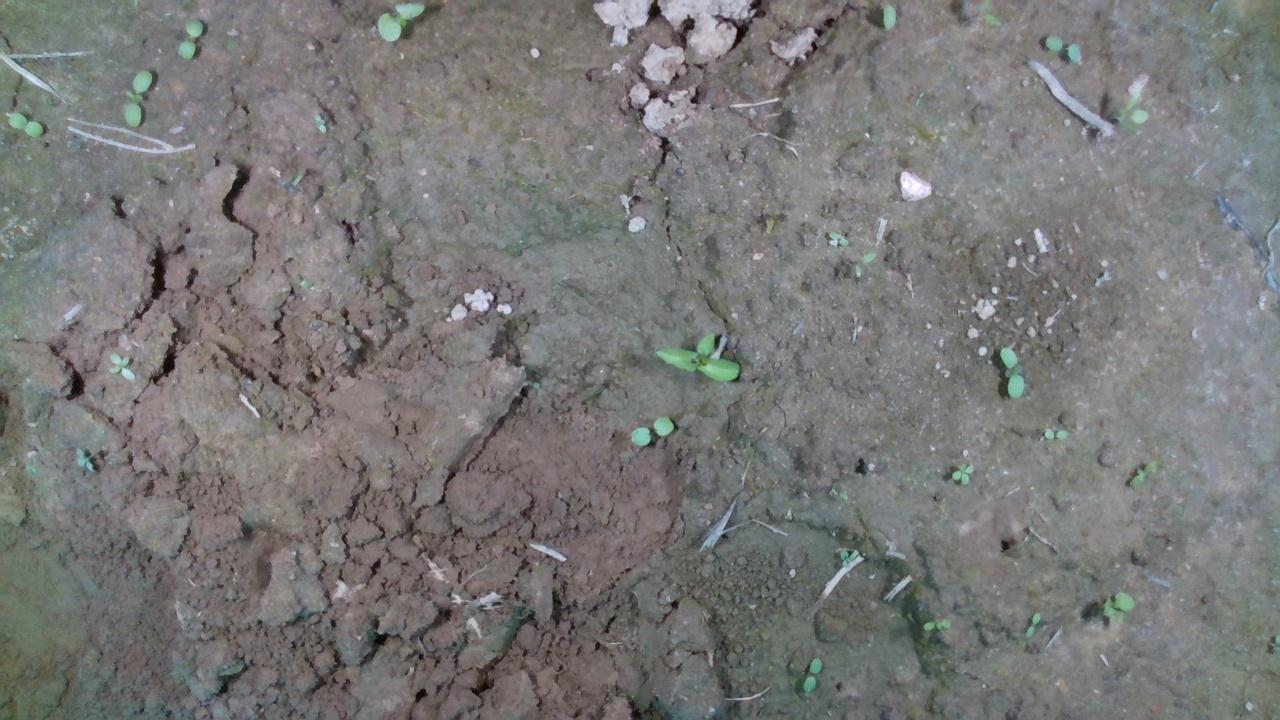weed: (651, 329, 741, 382), (372, 0, 425, 43), (121, 67, 153, 127), (628, 414, 675, 448), (998, 344, 1024, 402), (175, 16, 205, 62), (1042, 33, 1082, 64), (6, 109, 45, 140), (1098, 590, 1135, 618), (106, 351, 135, 382), (1126, 458, 1158, 486), (801, 655, 822, 694), (947, 461, 974, 487), (71, 444, 95, 472), (1023, 609, 1041, 638), (921, 616, 952, 631), (827, 229, 848, 249), (1042, 427, 1069, 439)
